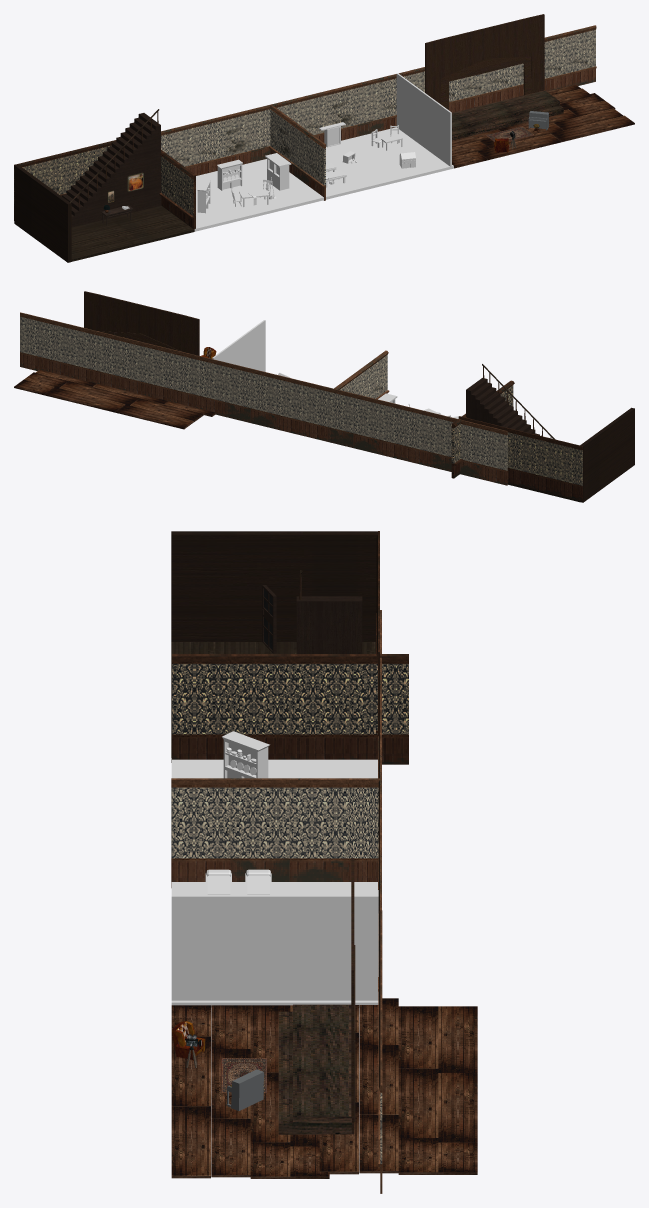
The model's file is Blockout_House.glb.
3 views of the same model, one above another, from view 1: azimuth 30°, elevation 25°; view 2: azimuth 150°, elevation 25°; view 3: azimuth 270°, elevation 25° (orthographic). The views are drawn at different scales.
Parts seen in each view (by area): view 1: SM_House_Blockout; view 2: SM_House_Blockout; view 3: SM_House_Blockout.
Part boxes in pixels (box(x1,y1,x2,y2)): SM_House_Blockout: box(14, 14, 634, 262); SM_House_Blockout: box(14, 291, 634, 502); SM_House_Blockout: box(171, 531, 477, 1193).
Bounding box in the file's own units: 65.78 × 10.84 × 15.52.
Materials: 25 (25 with a texture image).
